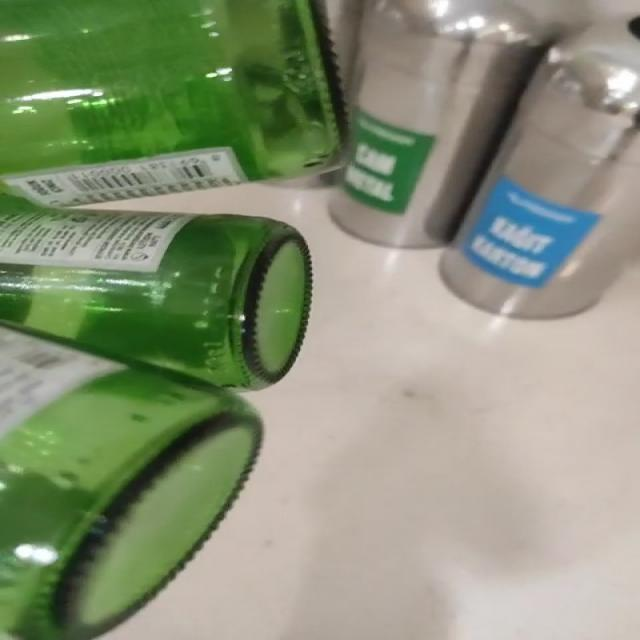glass: (1, 0, 344, 640)
